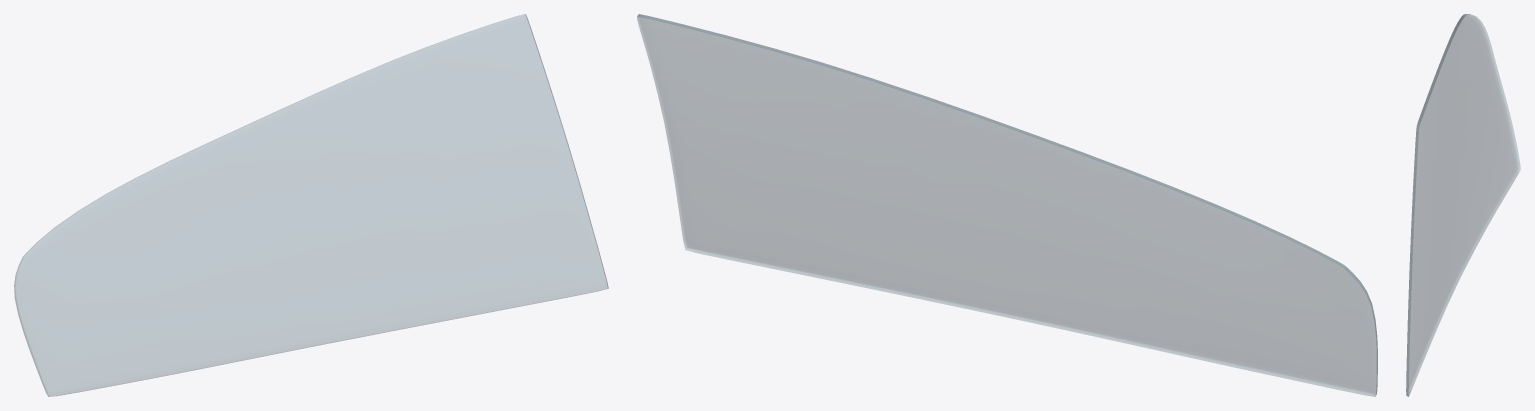
The picture shows the model from 3 angles, left to right: view 1: azimuth 30°, elevation 25°; view 2: azimuth 150°, elevation 25°; view 3: azimuth 270°, elevation 25°; orthographic projection. The views are drawn at different scales.
Visible parts, largest first — view 1: SM_DodgeCharger_Door_RR_Glass_Ext1; view 2: SM_DodgeCharger_Door_RR_Glass_Ext1; view 3: SM_DodgeCharger_Door_RR_Glass_Ext1.
Boxes of the visible parts, bbox=[...] form: SM_DodgeCharger_Door_RR_Glass_Ext1: bbox=[14, 14, 608, 396]; SM_DodgeCharger_Door_RR_Glass_Ext1: bbox=[637, 14, 1377, 396]; SM_DodgeCharger_Door_RR_Glass_Ext1: bbox=[1406, 14, 1520, 396].
Bounding box in the file's own units: 0.8101 × 0.3221 × 0.1534.
